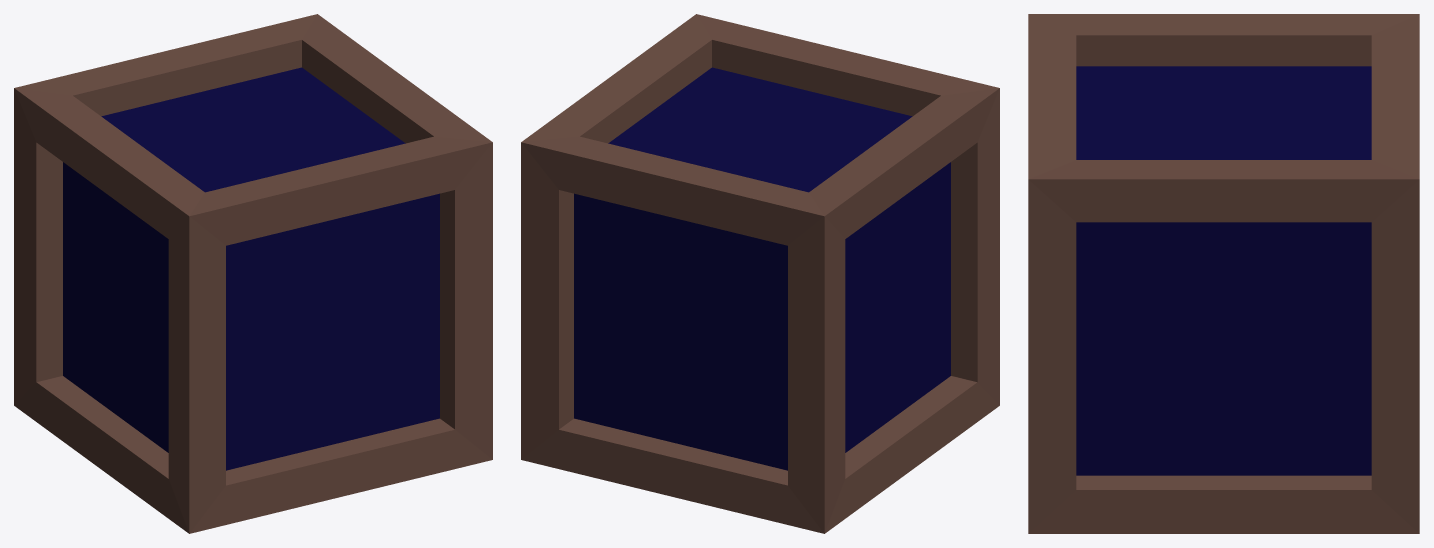
File: Props.fbx_Window.fbx_Crate.fbx
The picture shows the model from 3 angles, left to right: view 1: azimuth 30°, elevation 25°; view 2: azimuth 150°, elevation 25°; view 3: azimuth 270°, elevation 25°; orthographic projection. The views are drawn at different scales.
Visible parts, largest first — view 1: Crate; view 2: Crate; view 3: Crate.
Boxes of the visible parts, box(x1,y1,x2,y2) form: Crate: box(14, 14, 492, 533); Crate: box(521, 14, 999, 533); Crate: box(1028, 14, 1419, 533).
Size of the model in its own units: 0.9626 by 0.9626 by 0.9626.
